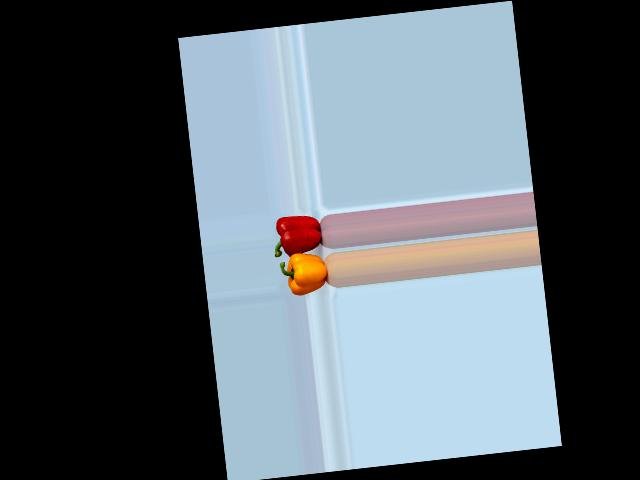bell_pepper: (271, 208, 328, 258)
